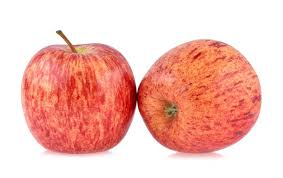apple: (19, 30, 138, 155), (137, 38, 263, 155)
